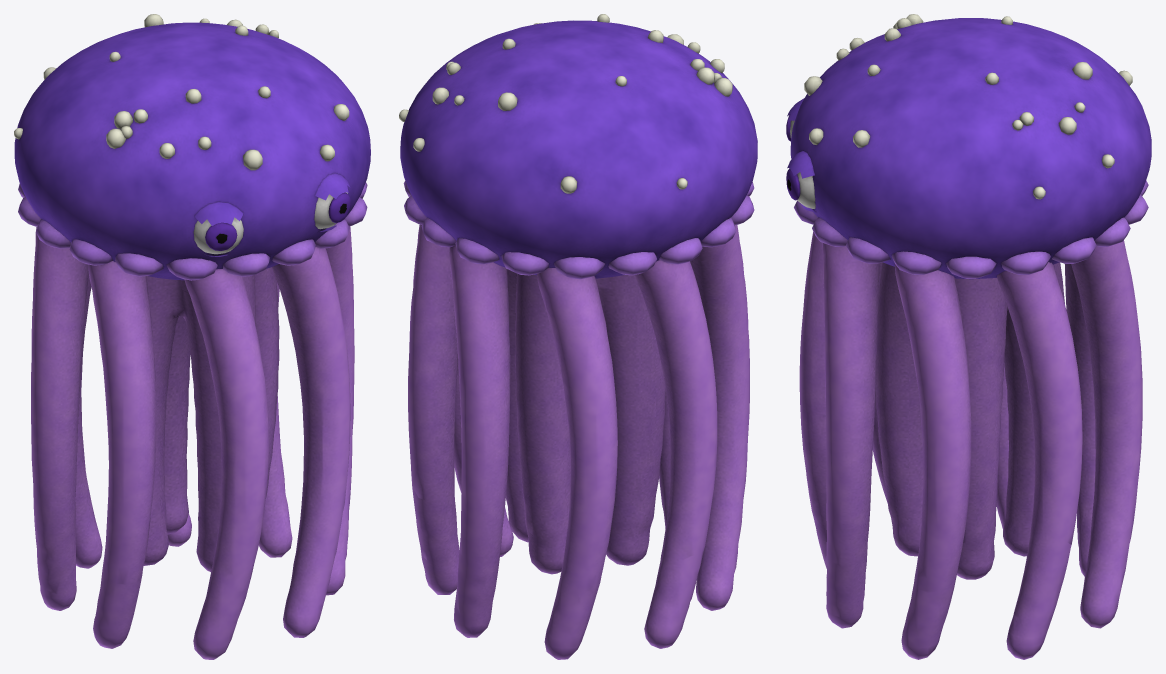
The model's file is GalaxyJellyfish.fbx.
3 renders of one model, left to right at view 1: azimuth 30°, elevation 25°; view 2: azimuth 150°, elevation 25°; view 3: azimuth 270°, elevation 25°, orthographic.
Parts seen in each view (by area): view 1: GalaxyJellyfish; view 2: GalaxyJellyfish; view 3: GalaxyJellyfish.
Part boxes in pixels (left/top/right/bottom): GalaxyJellyfish: left=14, top=14, right=370, bottom=659; GalaxyJellyfish: left=399, top=14, right=757, bottom=659; GalaxyJellyfish: left=786, top=14, right=1151, bottom=659.
Size of the model in its own units: 264 by 453 by 267.
Materials: 1 (1 with a texture image).
